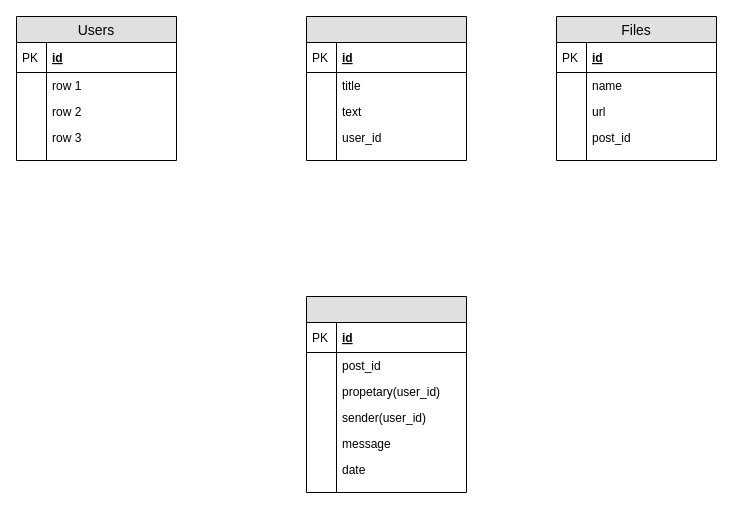
Some shapes in this 733 by 509 pixel diagram are drawn without their labels. Here are the shapes that lost their labels. From the top down, the box of each, then its label:
(306, 16, 466, 160): Posts
(306, 296, 466, 492): Chats
